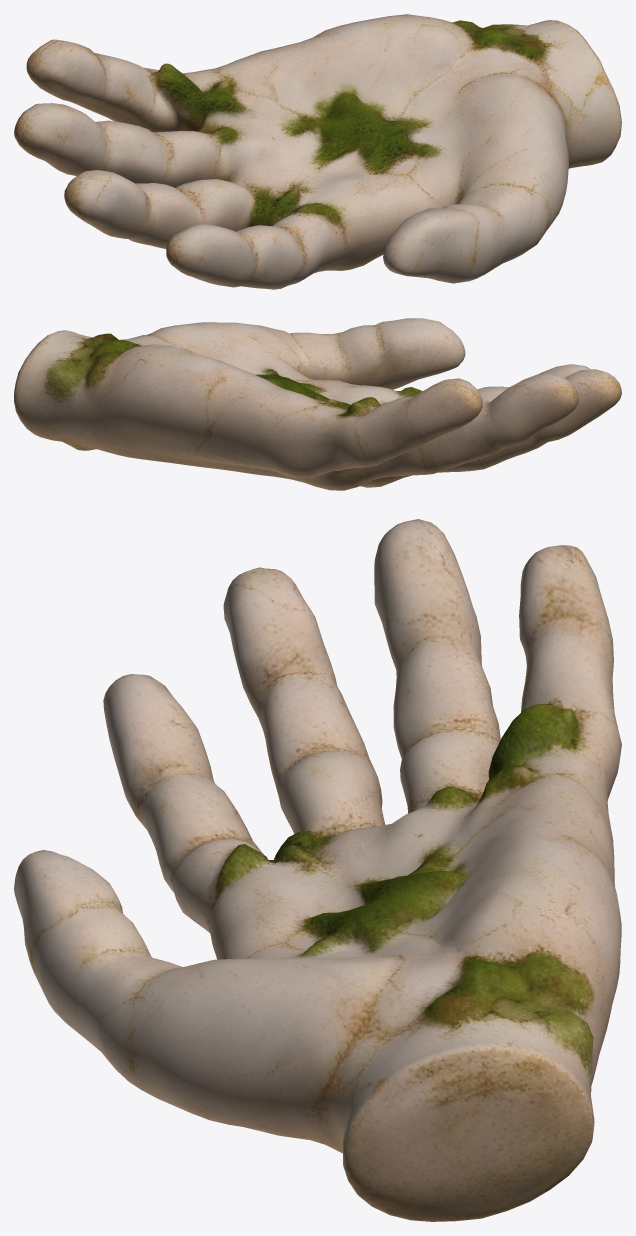
Rendered from hand2.glb.
3 renders of one model, top to bottom at view 1: azimuth 30°, elevation 25°; view 2: azimuth 150°, elevation 25°; view 3: azimuth 270°, elevation 25°, orthographic. The views are drawn at different scales.
Parts seen in each view (by area): view 1: tripo_node_a9c4dd73; view 2: tripo_node_a9c4dd73; view 3: tripo_node_a9c4dd73.
Part boxes in pixels (bbox=[...]): tripo_node_a9c4dd73: bbox=[14, 14, 621, 289]; tripo_node_a9c4dd73: bbox=[14, 318, 621, 490]; tripo_node_a9c4dd73: bbox=[14, 519, 621, 1221].
Bounding box in the file's own units: 97.97 × 33.12 × 56.94.
1 material, 1 textured.
